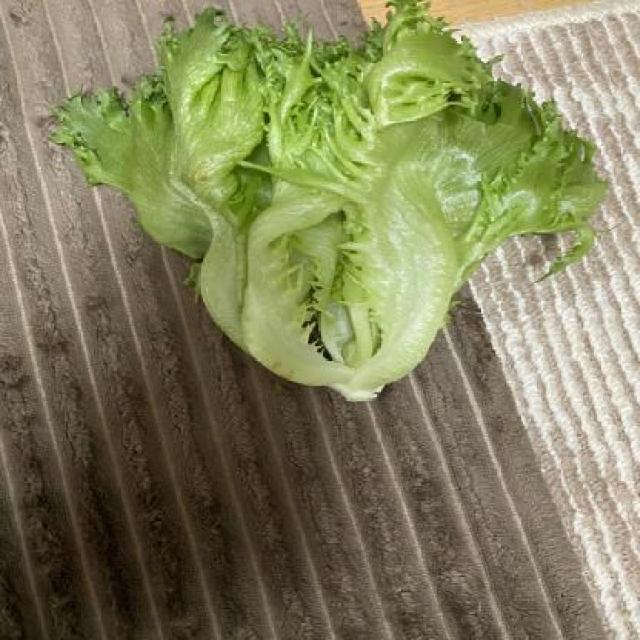Lettuce: (48, 0, 615, 409)
